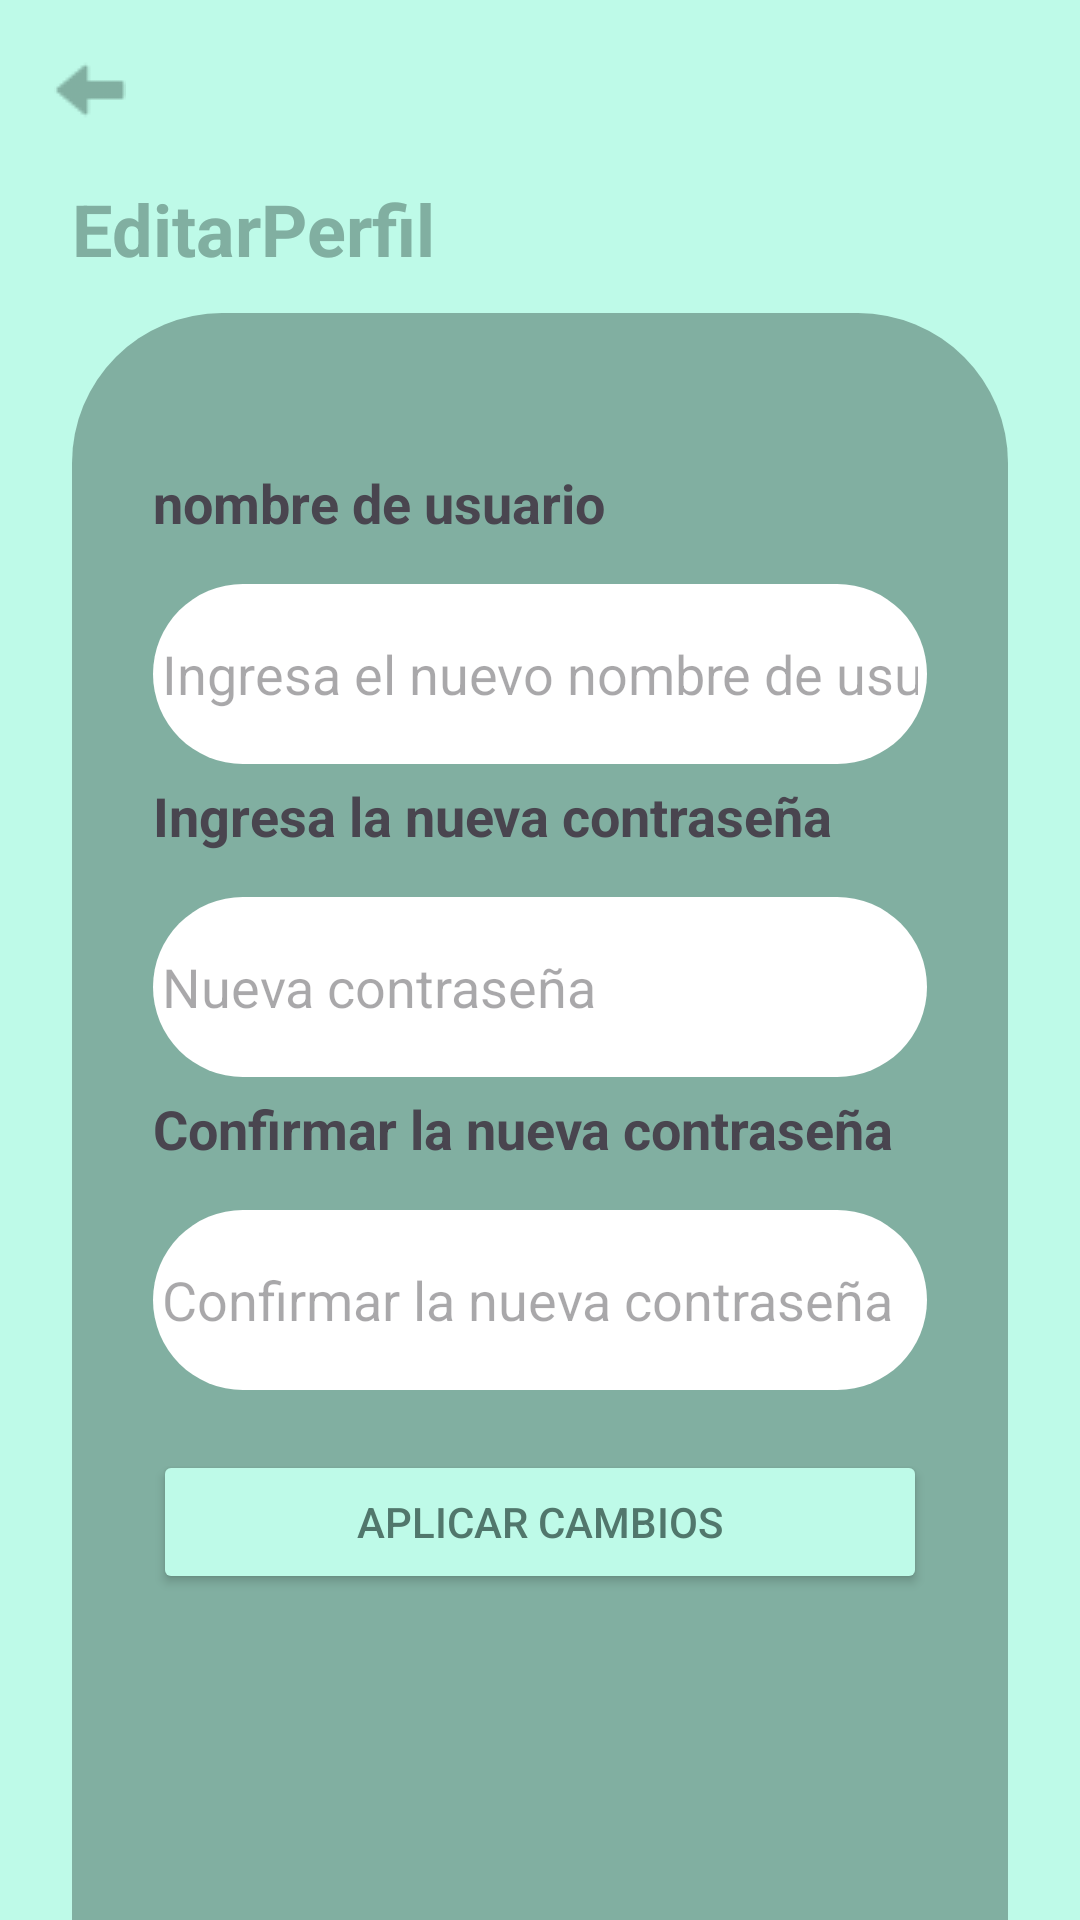

Where icons sit on this 1080×1920 app screen, as (x1, y1, x2, y2):
back: (56, 65, 124, 115)
